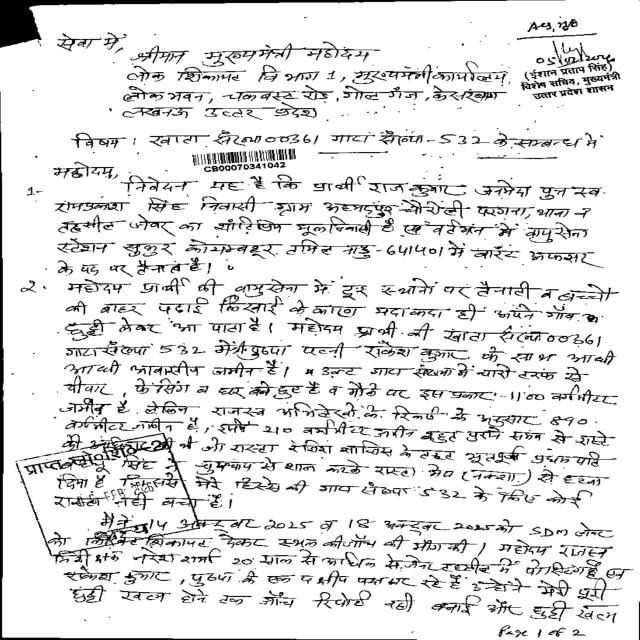antritgovtstamp: (9, 433, 202, 557)
barcode: (189, 148, 302, 174)
signnamestamp: (517, 39, 624, 102)
